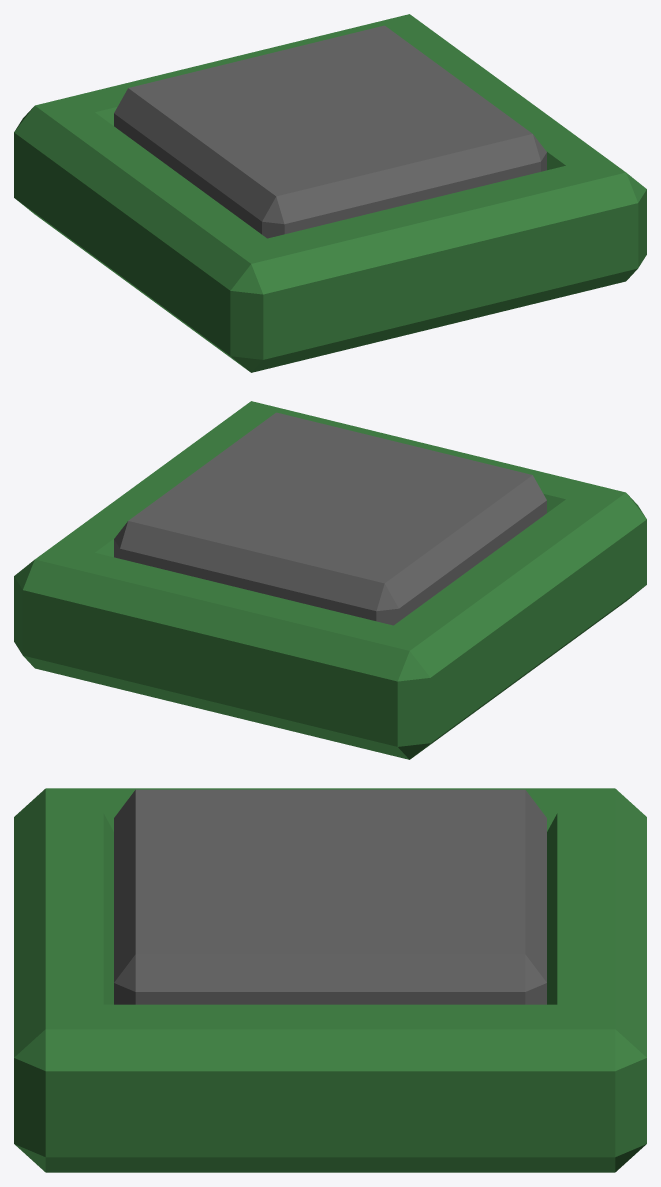
The model's file is m_dec_dung_button_enabled.fbx.
3 renders of one model, top to bottom at view 1: azimuth 30°, elevation 25°; view 2: azimuth 150°, elevation 25°; view 3: azimuth 270°, elevation 25°, orthographic. The views are drawn at different scales.
Parts seen in each view (by area): view 1: m_dec_dung_button_enabled; view 2: m_dec_dung_button_enabled; view 3: m_dec_dung_button_enabled.
Part boxes in pixels (left/top/right/bottom): m_dec_dung_button_enabled: left=14, top=14, right=646, bottom=372; m_dec_dung_button_enabled: left=14, top=401, right=646, bottom=759; m_dec_dung_button_enabled: left=14, top=788, right=646, bottom=1172.
Size of the model in its own units: 2 by 0.6287 by 2.
